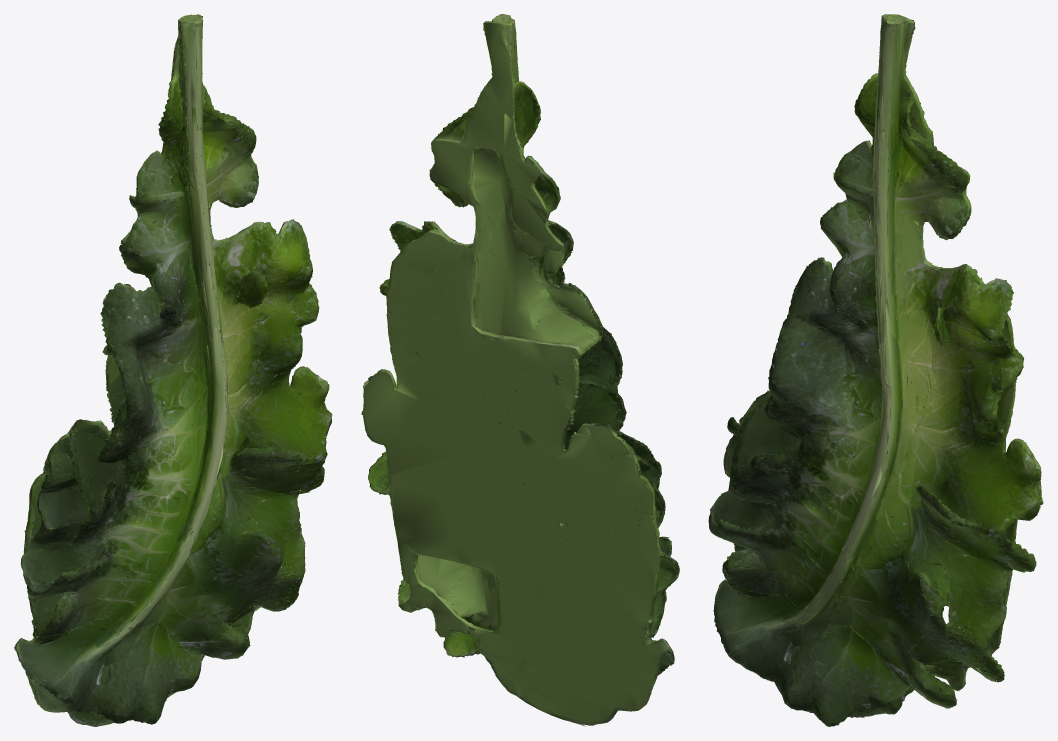
The model's file is kale-v3.glb.
The picture shows the model from 3 angles, left to right: view 1: azimuth 30°, elevation 25°; view 2: azimuth 150°, elevation 25°; view 3: azimuth 330°, elevation 25°; orthographic projection. The views are drawn at different scales.
Visible parts, largest first — view 1: node_0.001; view 2: node_0.001; view 3: node_0.001.
Boxes of the visible parts, box(x1,y1,x2,y2) form: node_0.001: box(14, 14, 332, 726); node_0.001: box(361, 14, 679, 726); node_0.001: box(708, 14, 1043, 726).
Bounding box in the file's own units: 0.4313 × 0.9031 × 0.0931.
Materials: 1 (1 with a texture image).
